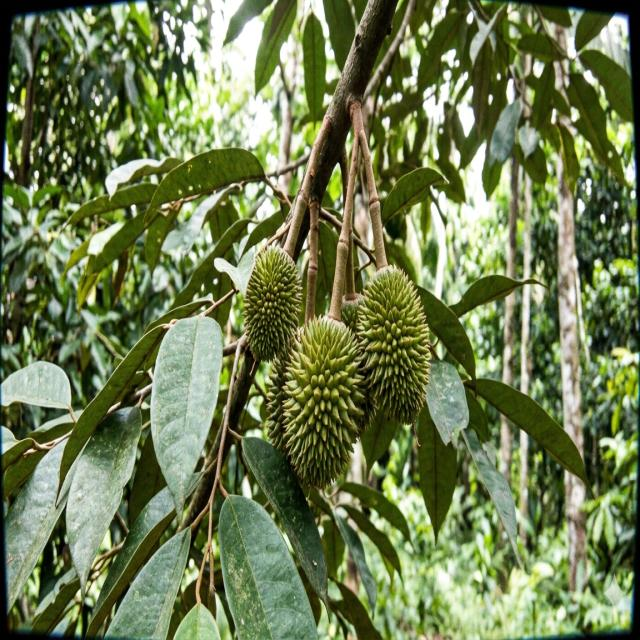immature: (279, 315, 365, 491), (355, 265, 429, 423), (243, 242, 302, 360), (266, 342, 296, 452), (340, 296, 361, 334)
